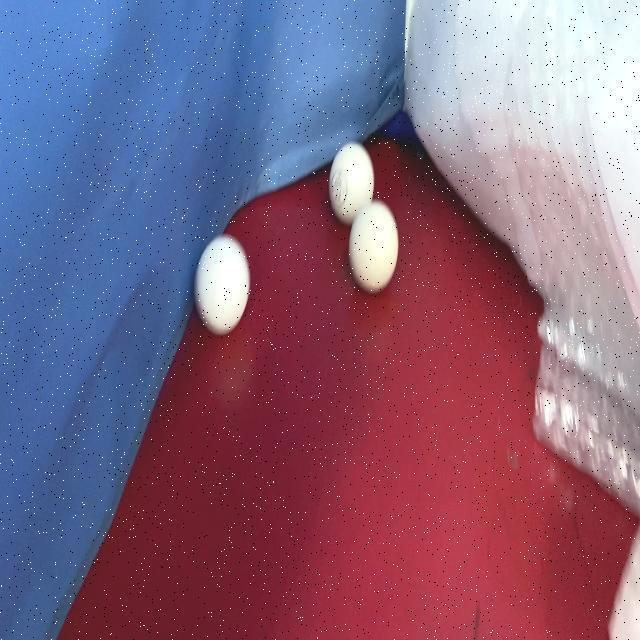ping-pong-ball: (193, 229, 250, 338), (348, 200, 400, 294), (326, 140, 376, 223)
